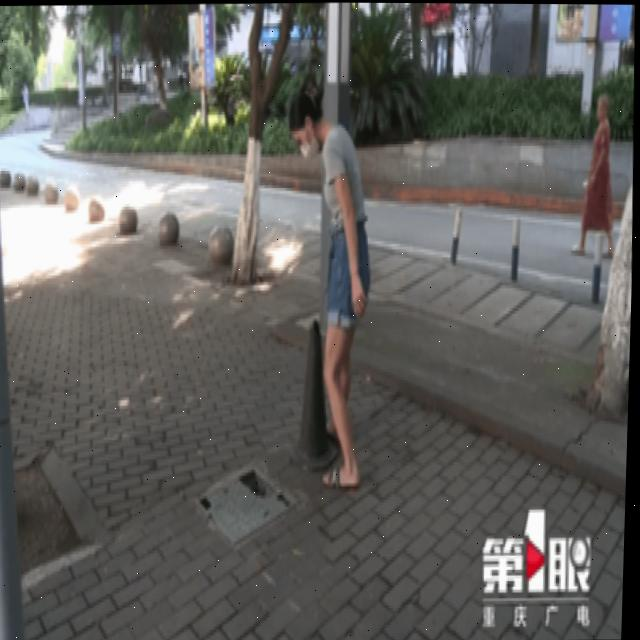manhole: (188, 454, 304, 544)
